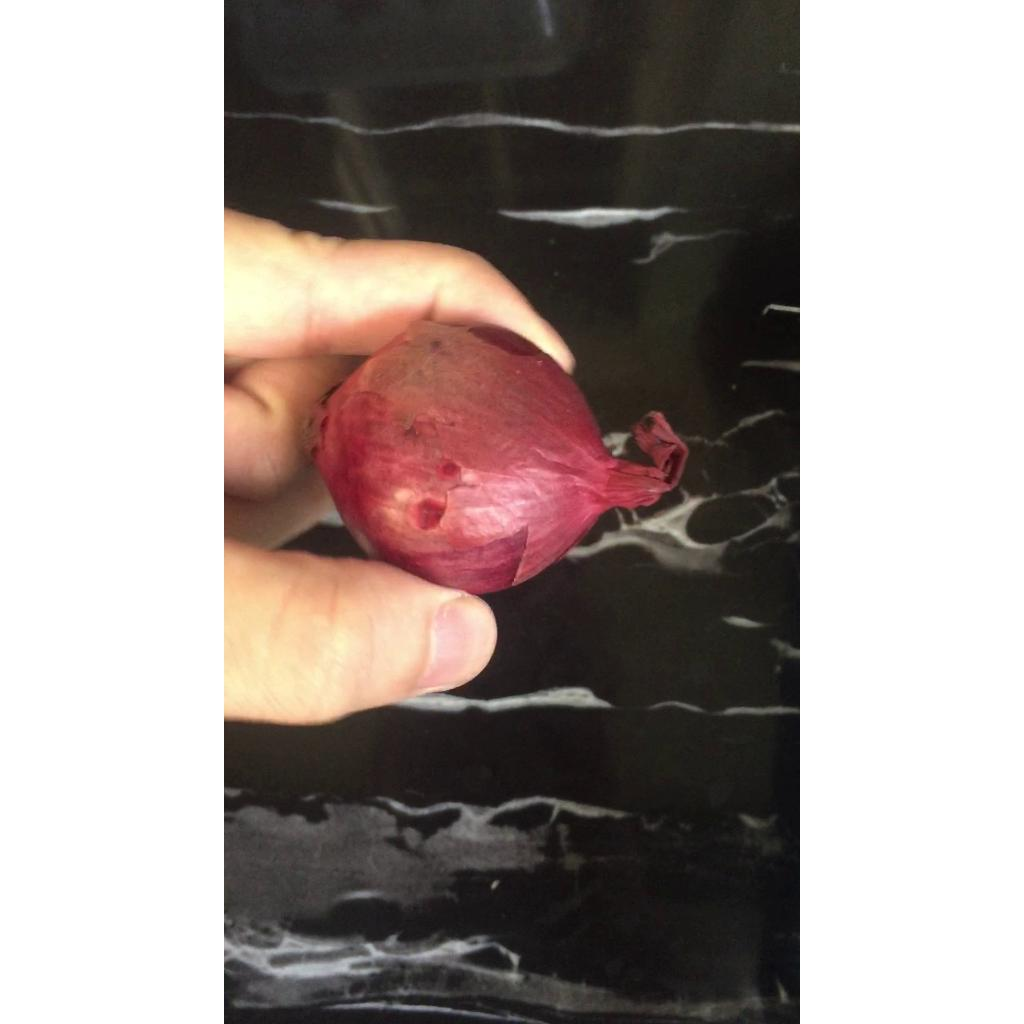Onion: (314, 322, 688, 594)
